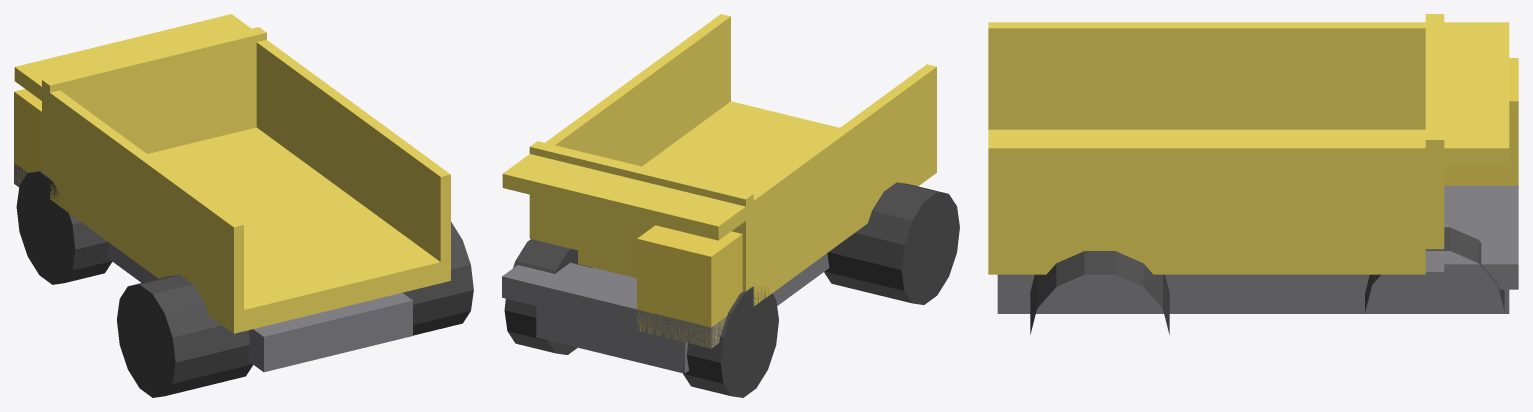
Rendered from haul_truck.glb.
3 views of the same model, side by side, from view 1: azimuth 30°, elevation 25°; view 2: azimuth 150°, elevation 25°; view 3: azimuth 270°, elevation 25° (orthographic). The views are drawn at different scales.
Bounding box in the file's own units: 8.8 × 5.56 × 11.4.
